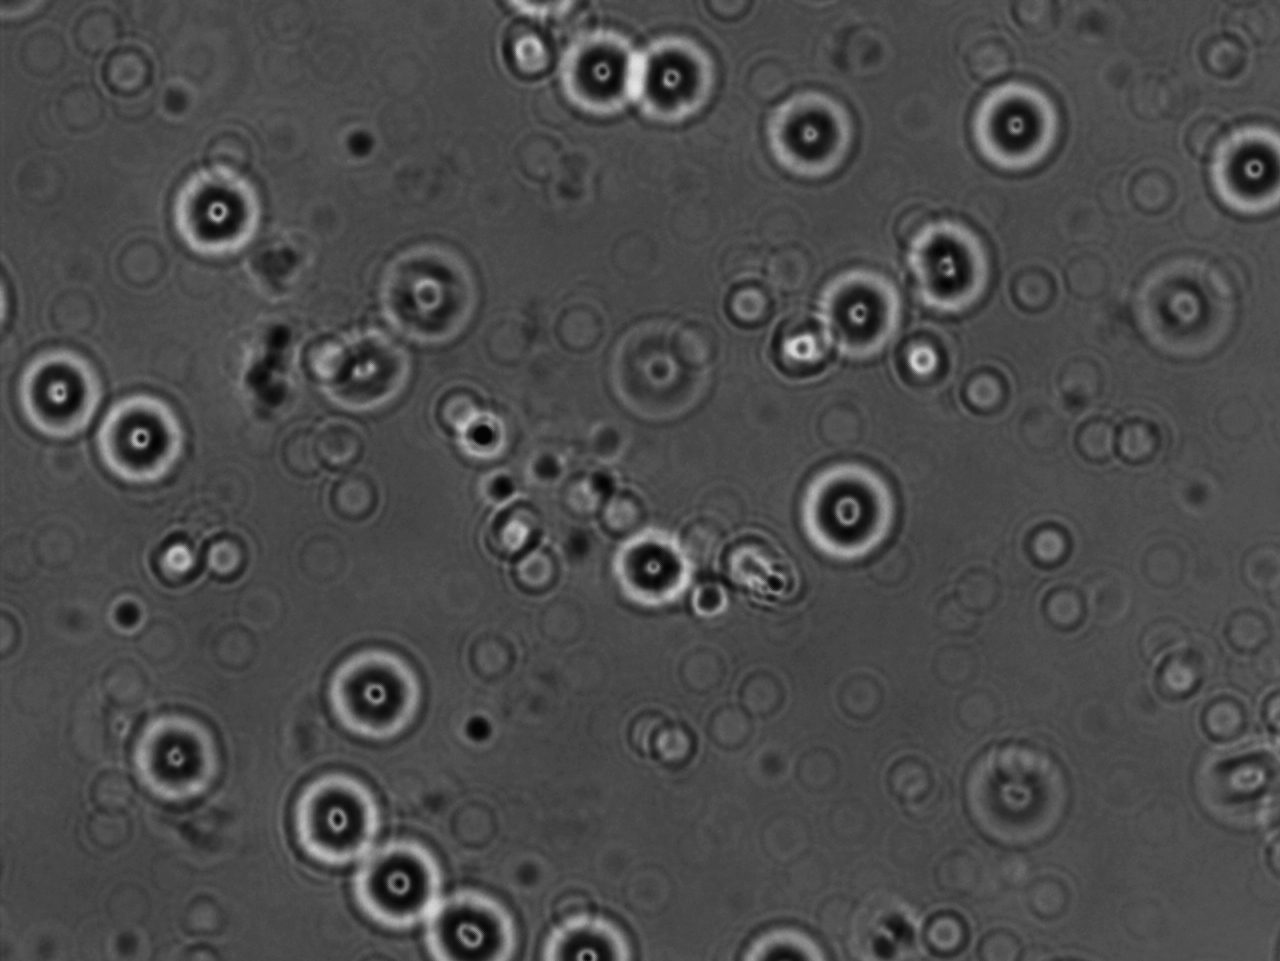depth:-8: (270, 748, 411, 874), (790, 450, 918, 573), (87, 381, 215, 503), (588, 497, 708, 622), (798, 256, 921, 378), (367, 237, 490, 353), (159, 157, 279, 273), (956, 58, 1072, 173), (545, 18, 663, 129), (123, 697, 239, 809), (757, 78, 872, 190), (2, 332, 118, 443), (621, 28, 733, 141), (889, 216, 1008, 322), (312, 637, 429, 743), (340, 836, 460, 936), (1176, 108, 1280, 219), (397, 881, 521, 961), (522, 905, 660, 961), (725, 907, 848, 961)
